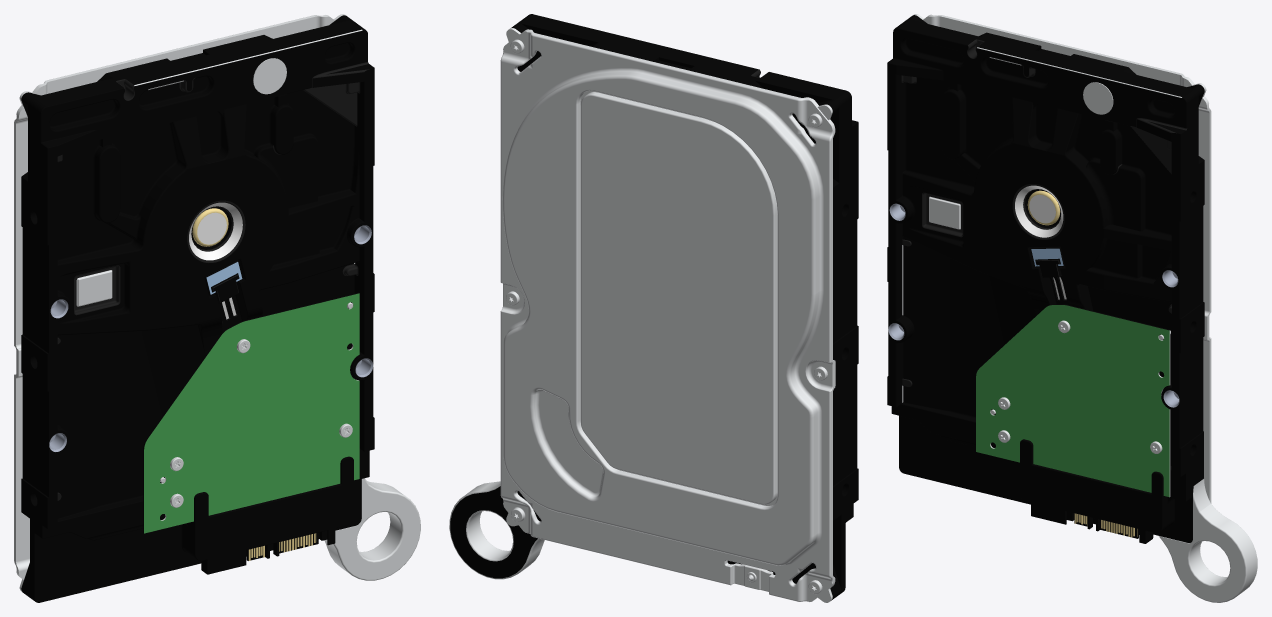
File: shyhalk keychain.fbx
The picture shows the model from 3 angles, left to right: view 1: azimuth 30°, elevation 25°; view 2: azimuth 150°, elevation 25°; view 3: azimuth 330°, elevation 25°; orthographic projection. The views are drawn at different scales.
Visible parts, largest first — view 1: 3DGeom-2358, 3DGeom-2370, 3DGeom-2360, 3DGeom-2357, 3DGeom-2355, 3DGeom-2371, 3DGeom-2367; view 2: 3DGeom-2357, 3DGeom-2358, 3DGeom-2360; view 3: 3DGeom-2358, 3DGeom-2370, 3DGeom-2360, 3DGeom-2357, 3DGeom-2355, 3DGeom-2371, 3DGeom-2367.
Boxes of the visible parts, left/top/right/bottom form: 3DGeom-2358: left=21, top=15, right=374, bottom=602; 3DGeom-2370: left=144, top=293, right=359, bottom=533; 3DGeom-2360: left=19, top=16, right=420, bottom=580; 3DGeom-2357: left=14, top=14, right=346, bottom=591; 3DGeom-2355: left=57, top=62, right=369, bottom=500; 3DGeom-2371: left=189, top=202, right=242, bottom=260; 3DGeom-2367: left=49, top=226, right=370, bottom=449; 3DGeom-2357: left=500, top=28, right=835, bottom=602; 3DGeom-2358: left=450, top=14, right=858, bottom=600; 3DGeom-2360: left=449, top=15, right=832, bottom=579; 3DGeom-2358: left=887, top=15, right=1204, bottom=543; 3DGeom-2370: left=976, top=305, right=1169, bottom=497; 3DGeom-2360: left=902, top=47, right=1257, bottom=602; 3DGeom-2357: left=913, top=14, right=1211, bottom=503; 3DGeom-2355: left=901, top=39, right=1187, bottom=386; 3DGeom-2371: left=1015, top=185, right=1063, bottom=237; 3DGeom-2367: left=890, top=204, right=1178, bottom=405.
Bounding box in the file's own units: 0.0258 × 0.00445 × 0.0356.
